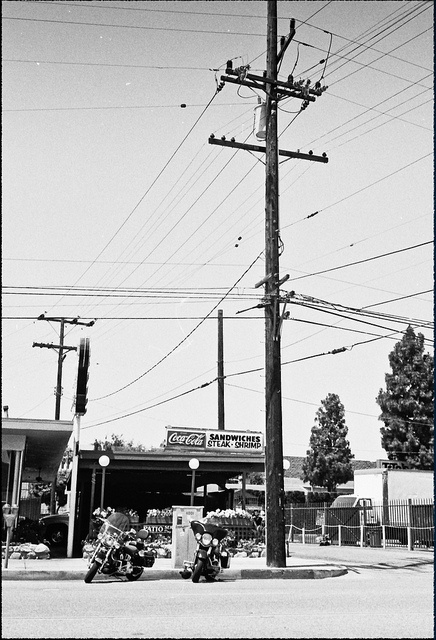non-vehicle: (84, 512, 155, 582), (182, 520, 231, 582)
